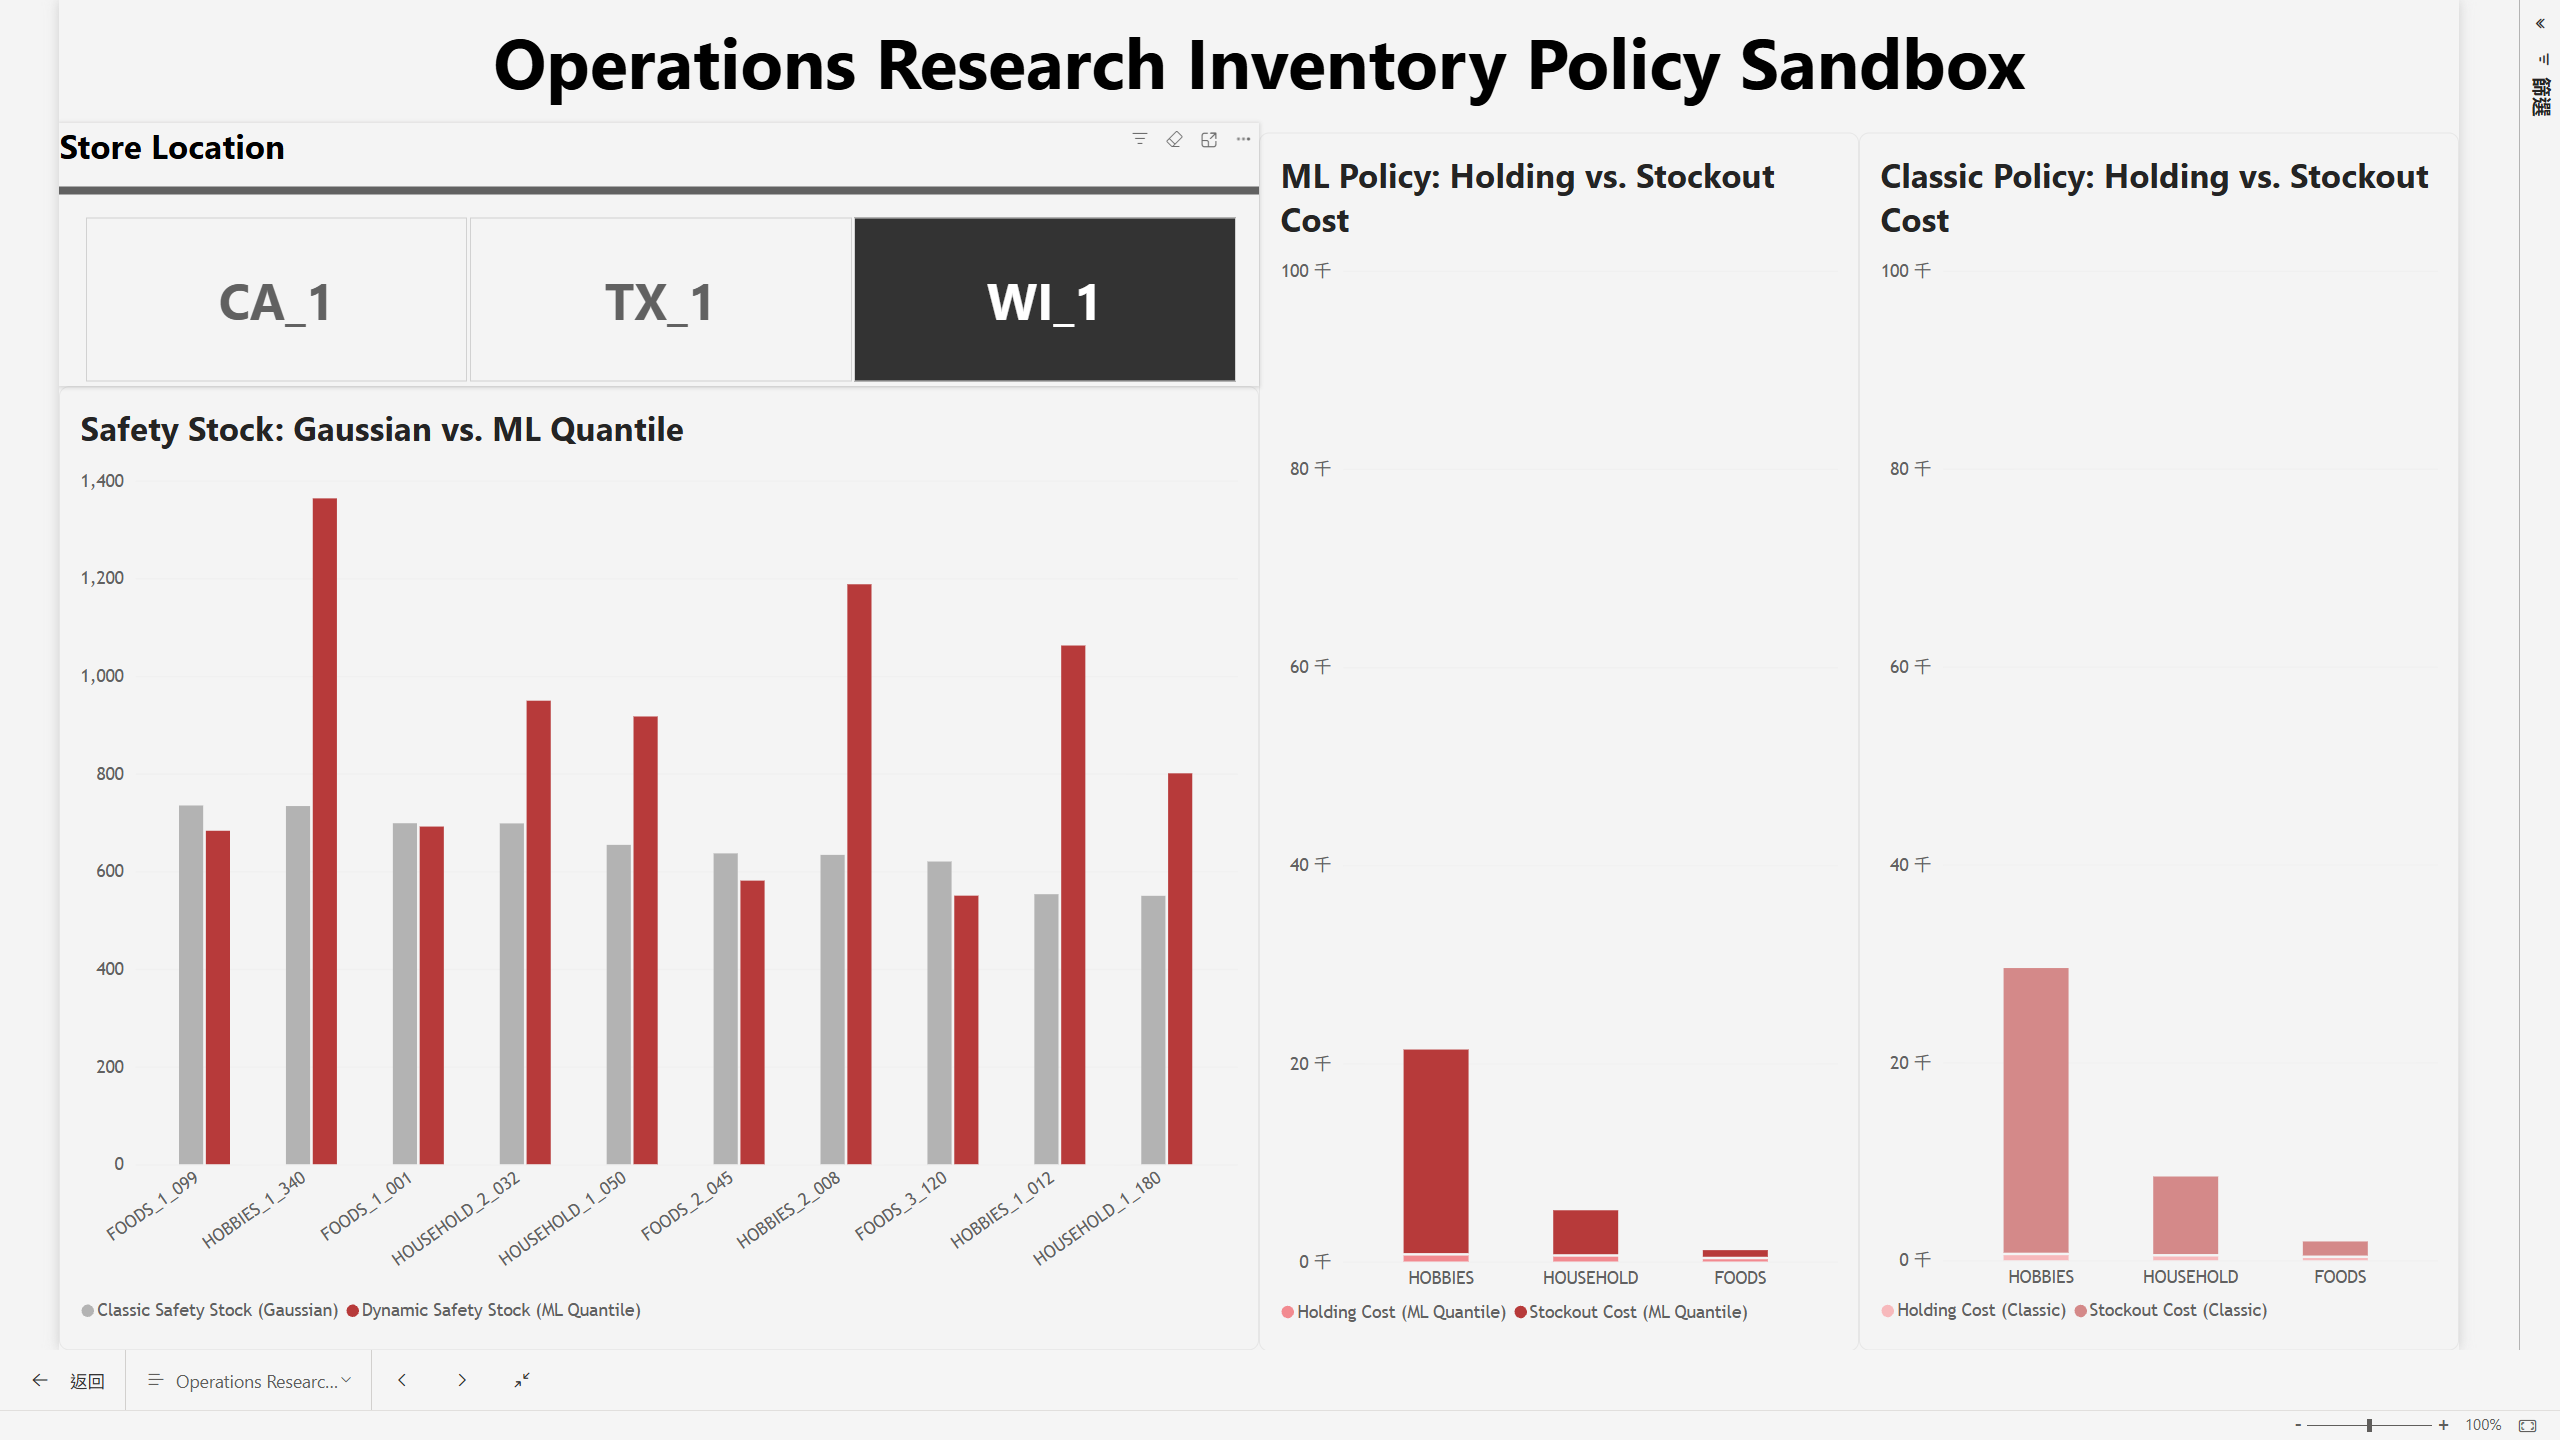

The page's visual inventory and layout, read from the dashboard file:
{"tool":"powerbi","page":{"name":"Operations Research Inventory Policy Sandbox","canvas":[1920,1080],"ordinal":2},"visuals":[{"type":"clusteredColumnChart","title":"Safety Stock: Gaussian vs. ML Quantile","fields":{"Category":["Dim_Product.Item_ID"],"Y":["_Measures.Classic Safety Stock (Gaussian)","_Measures.Dynamic Safety Stock (ML Quantile)"]},"box":[0,308.8,960,771.2],"z":0},{"type":"columnChart","title":"Classic Policy: Holding vs. Stockout Cost","fields":{"Category":["Dim_Product.Cat_ID"],"Y":["_Measures.Holding Cost (Classic)","_Measures.Stockout Cost (Classic)"]},"box":[1440,106,480,974],"z":1000},{"type":"columnChart","title":"ML Policy: Holding vs. Stockout Cost","fields":{"Category":["Dim_Product.Cat_ID"],"Y":["_Measures.Holding Cost (ML Quantile)","_Measures.Stockout Cost (ML Quantile)"]},"box":[960,106.2,480,975],"z":2000},{"type":"textbox","box":[0,10,1920,96],"z":3000},{"type":"slicer","title":"Store Location","fields":{"Values":["Dim_Store.Store_ID"]},"box":[0,98.3,960,210],"z":4000}]}

Visuals, with their boxes on the page's 1920x1080 design canvas (x1, y1, x2, y2). These are canvas units, not pixel positions in the 2560x1440 screenshot, which may show the page scaled, cropped or inside an application window:
"Safety Stock: Gaussian vs. ML Quantile" clusteredColumnChart: select_region(0, 309, 960, 1080)
"Classic Policy: Holding vs. Stockout Cost" columnChart: select_region(1440, 106, 1920, 1080)
"ML Policy: Holding vs. Stockout Cost" columnChart: select_region(960, 106, 1440, 1081)
textbox: select_region(0, 10, 1920, 106)
"Store Location" slicer: select_region(0, 98, 960, 308)
